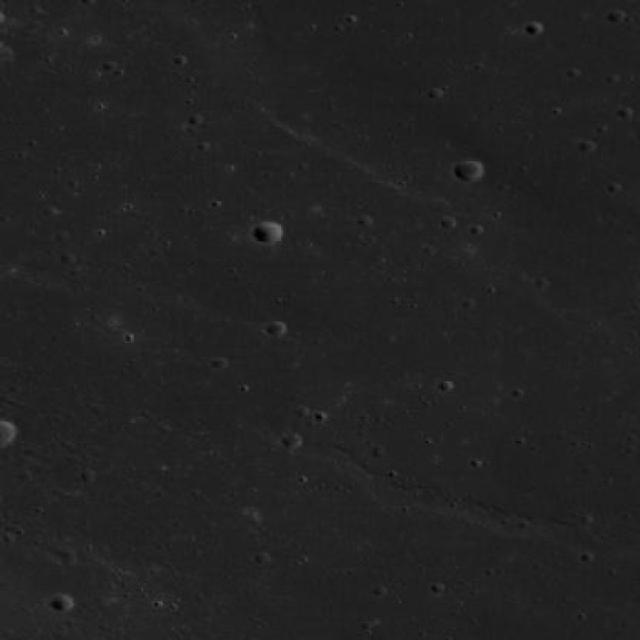crater: (452, 157, 483, 180), (253, 221, 281, 241), (48, 594, 72, 612)
